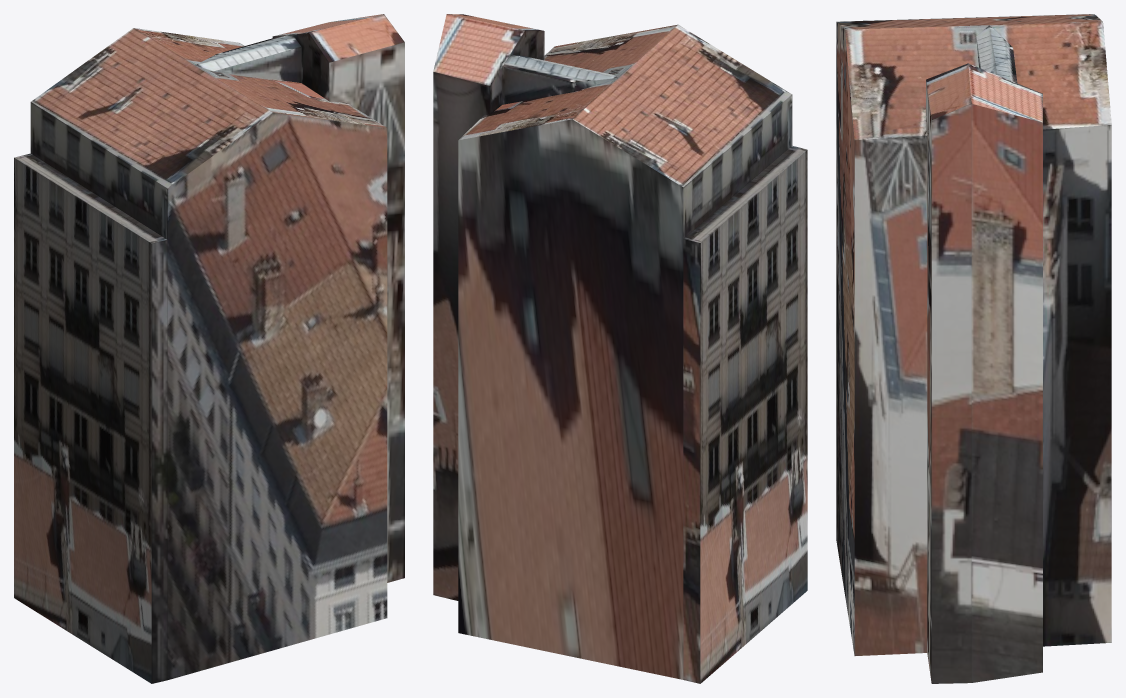
3 renders of one model, left to right at view 1: azimuth 30°, elevation 25°; view 2: azimuth 150°, elevation 25°; view 3: azimuth 270°, elevation 25°, orthographic. The views are drawn at different scales.
Visible parts, largest first — view 1: Z_UP; view 2: Z_UP; view 3: Z_UP.
Part boxes in pixels (box(x1,y1,x2,y2)): Z_UP: box(14, 14, 404, 683); Z_UP: box(433, 14, 807, 683); Z_UP: box(836, 14, 1111, 683).
Bounding box in the file's own units: 17.78 × 29.88 × 12.86.
2 materials, 1 textured.
